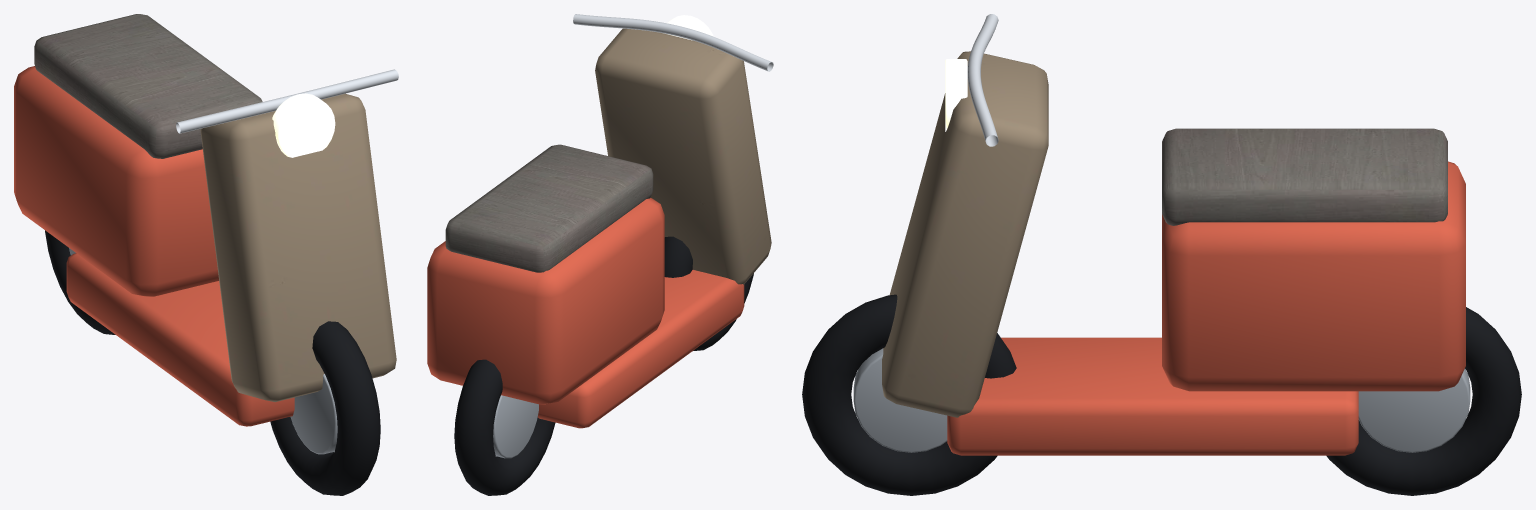
File: scooter-ev-37c02b40b37f.glb
3 views of the same model, side by side, from view 1: azimuth 30°, elevation 25°; view 2: azimuth 150°, elevation 25°; view 3: azimuth 270°, elevation 25° (orthographic). The views are drawn at different scales.
Parts seen in each view (by area): view 1: Mesh_Scooter_Coral, Front_Shield, Dual_Seat, Mesh_Tire_Rubber, Headlamp, Mesh_Galv_Steel, Handlebars; view 2: Mesh_Scooter_Coral, Front_Shield, Dual_Seat, Mesh_Tire_Rubber, Handlebars, Mesh_Galv_Steel, Headlamp; view 3: Mesh_Scooter_Coral, Front_Shield, Mesh_Tire_Rubber, Dual_Seat, Mesh_Galv_Steel, Handlebars, Headlamp.
Boxes of the visible parts, x1=… form: Mesh_Scooter_Coral: x1=14, y1=66, x2=294, y2=426; Front_Shield: x1=200, y1=93, x2=396, y2=402; Dual_Seat: x1=34, y1=14, x2=262, y2=158; Mesh_Tire_Rubber: x1=45, y1=230, x2=380, y2=495; Headlamp: x1=272, y1=93, x2=335, y2=157; Mesh_Galv_Steel: x1=69, y1=248, x2=337, y2=454; Handlebars: x1=176, y1=69, x2=398, y2=133; Mesh_Scooter_Coral: x1=427, y1=198, x2=744, y2=428; Front_Shield: x1=595, y1=28, x2=771, y2=284; Dual_Seat: x1=445, y1=144, x2=653, y2=272; Mesh_Tire_Rubber: x1=454, y1=236, x2=753, y2=495; Handlebars: x1=573, y1=14, x2=773, y2=71; Mesh_Galv_Steel: x1=493, y1=395, x2=538, y2=458; Headlamp: x1=665, y1=15, x2=713, y2=40; Mesh_Scooter_Coral: x1=947, y1=161, x2=1465, y2=455; Front_Shield: x1=882, y1=51, x2=1048, y2=417; Mesh_Tire_Rubber: x1=802, y1=294, x2=1521, y2=495; Dual_Seat: x1=1162, y1=128, x2=1447, y2=225; Mesh_Galv_Steel: x1=853, y1=348, x2=1470, y2=452; Handlebars: x1=967, y1=14, x2=998, y2=146; Headlamp: x1=945, y1=59, x2=967, y2=131.
Bounding box in the file's own units: 0.6441 × 1.07 × 1.61.
Materials: 7 (2 with a texture image).
